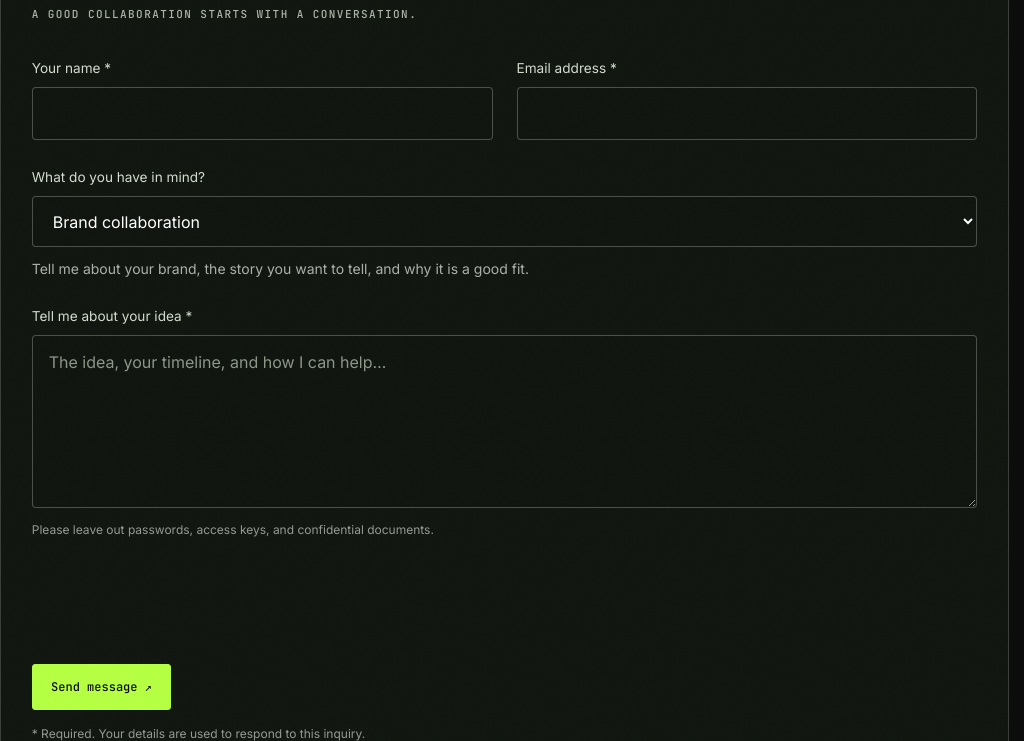
Test: contact submission states › keeps the message on failure and permits retry
Type "Preview Tester" into the field labelled "Your name *" at (262, 114), box [32,87,492,140]
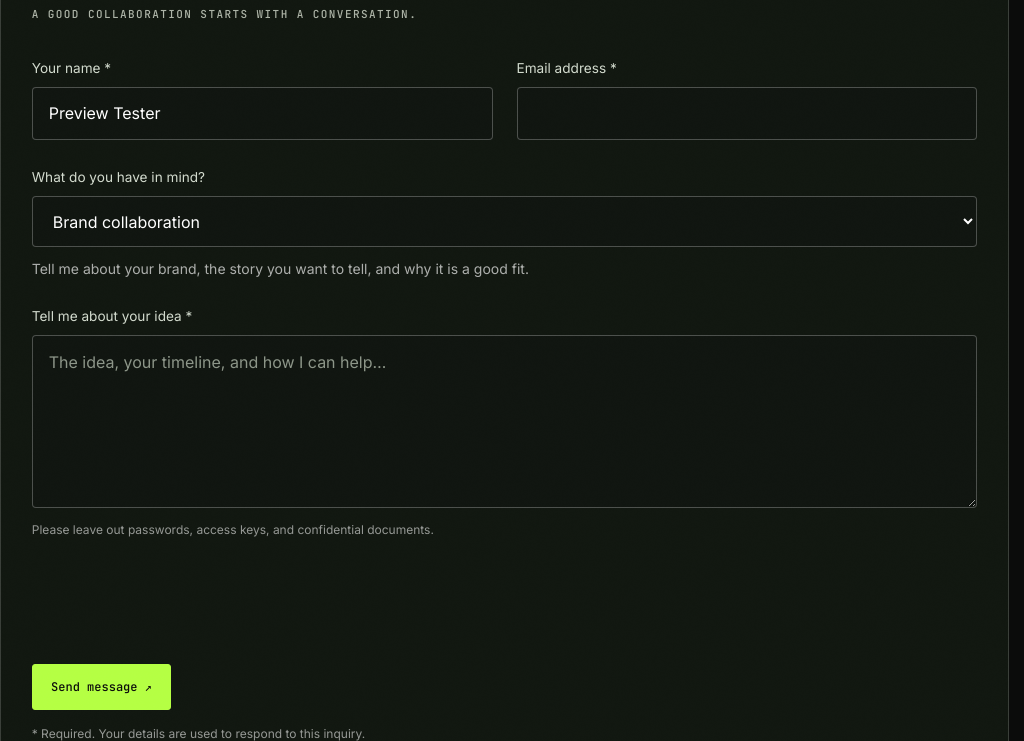
Type "test@example.com" into the field labelled "Email address *" at (747, 114), box [516,87,977,140]
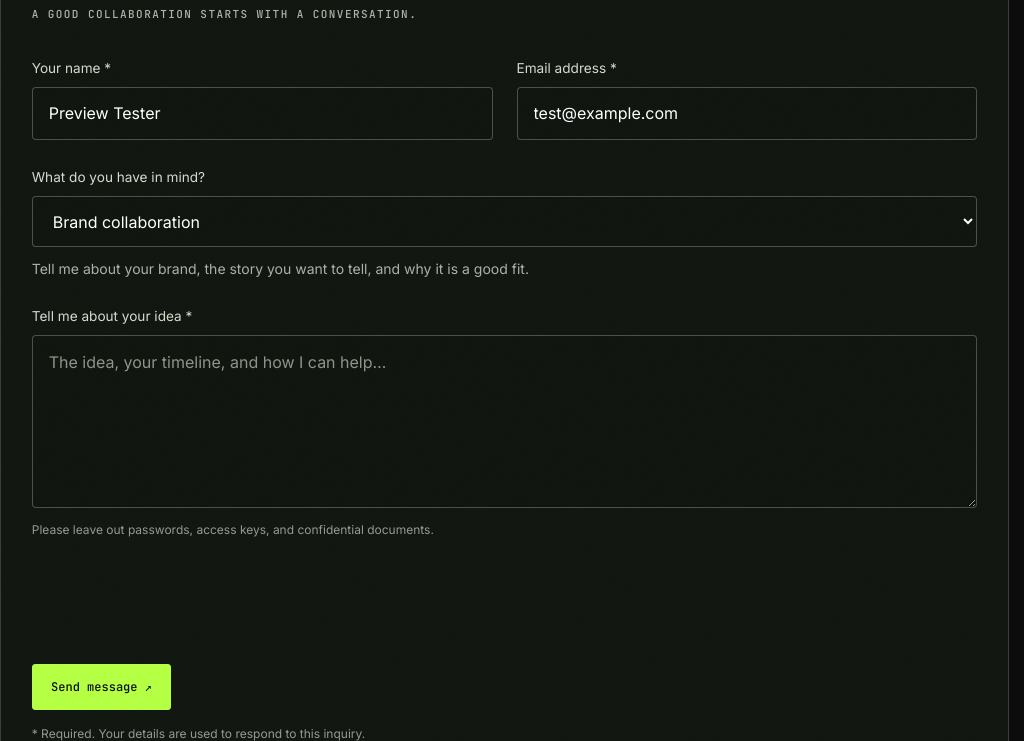
Type "This is a local test only." into the text box labelled "Tell me about your idea *" at (504, 422), box [32,335,977,508]
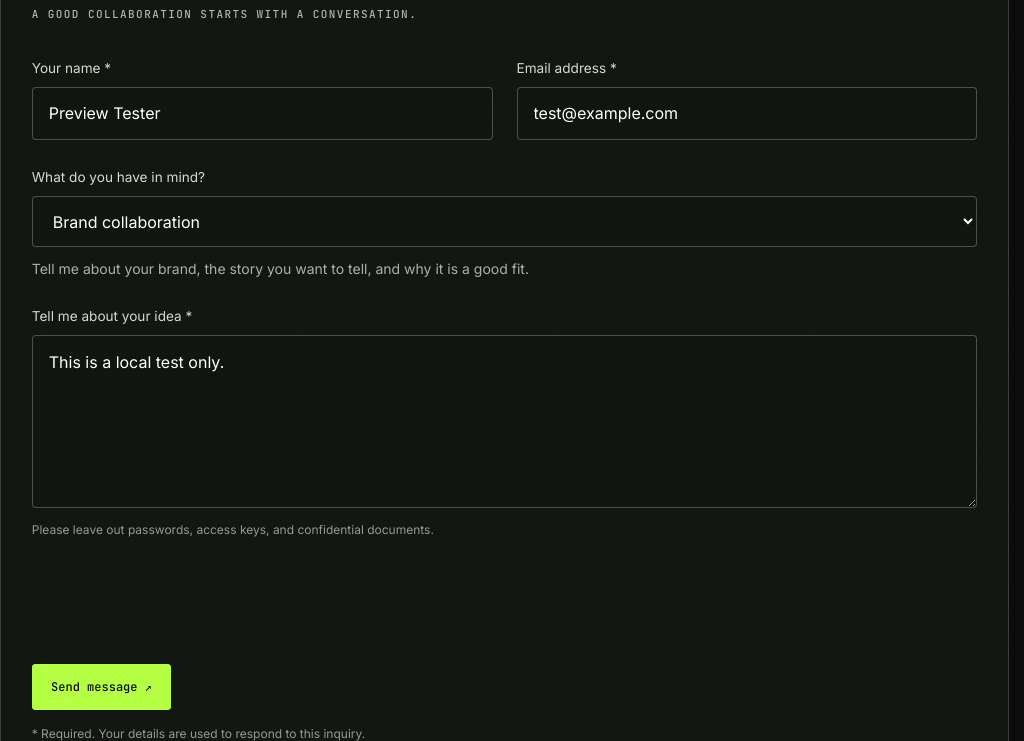
Click the button "Send message ↗" at (102, 687), box [32,664,171,710]
(page scrolled)
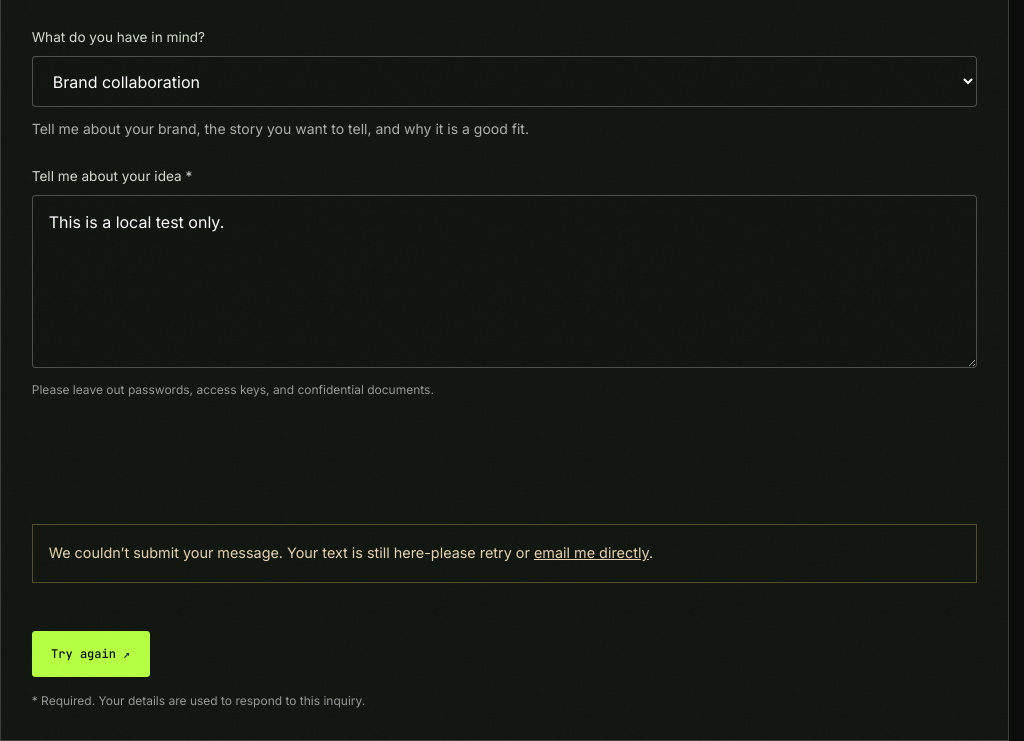
Expected: the message shows "couldn’t submit", [49,544,534,561]
Expected: the button "Try again ↗" is shown, [32,631,150,677]
